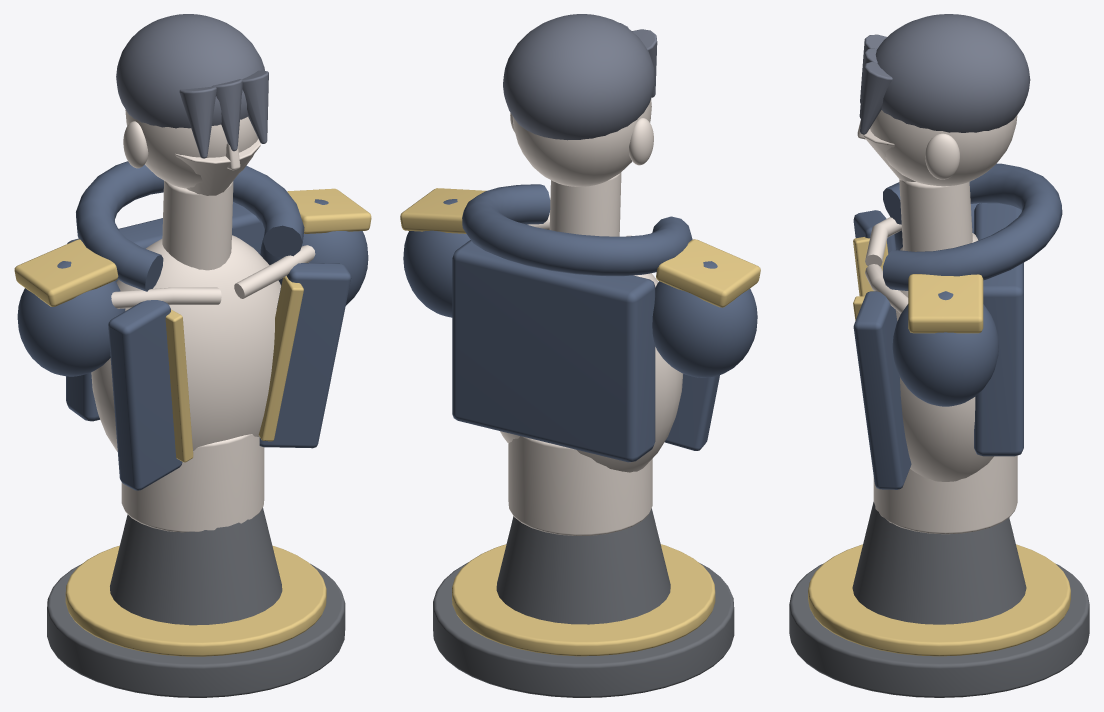
File: stylized_hero_mannequin_bust_v9.glb
The picture shows the model from 3 angles, left to right: view 1: azimuth 30°, elevation 25°; view 2: azimuth 150°, elevation 25°; view 3: azimuth 270°, elevation 25°; orthographic projection.
Visible parts, largest first — view 1: GEO_AnatomicalRibcageTorso, GEO_PedestalColumn, GEO_PedestalBaseDisc, GEO_PedestalGoldRing, GEO_HairCrownMass, GEO_CoatFrontLapel, GEO_OpenHighCollarRim, GEO_AnatomicalWaistTaper, GEO_CoatFrontLapel.001, GEO_DeltoidShoulderCap, GEO_AnatomicalNeck, GEO_ShoulderEpaulettePlate (+13 smaller); view 2: GEO_CoatBackMantle, GEO_HairCrownMass, GEO_PedestalBaseDisc, GEO_PedestalColumn, GEO_PedestalGoldRing, GEO_OpenHighCollarRim, GEO_AnatomicalWaistTaper, GEO_DeltoidShoulderCap, GEO_StylizedCranium, GEO_ShoulderEpaulettePlate, GEO_DeltoidShoulderCap.001, GEO_AnatomicalNeck (+4 smaller); view 3: GEO_PedestalColumn, GEO_HairCrownMass, GEO_PedestalBaseDisc, GEO_PedestalGoldRing, GEO_OpenHighCollarRim, GEO_CoatBackMantle, GEO_AnatomicalWaistTaper, GEO_CoatFrontLapel.001, GEO_DeltoidShoulderCap.001, GEO_AnatomicalRibcageTorso, GEO_StylizedCranium, GEO_AnatomicalNeck (+8 smaller).
Part boxes in pixels (left/top/right/bottom): GEO_AnatomicalRibcageTorso: left=91, top=235, right=280, bottom=451; GEO_PedestalColumn: left=110, top=508, right=282, bottom=625; GEO_PedestalBaseDisc: left=47, top=563, right=345, bottom=697; GEO_PedestalGoldRing: left=65, top=545, right=326, bottom=656; GEO_HairCrownMass: left=116, top=14, right=264, bottom=128; GEO_CoatFrontLapel: left=108, top=300, right=182, bottom=490; GEO_OpenHighCollarRim: left=76, top=161, right=304, bottom=291; GEO_AnatomicalWaistTaper: left=121, top=434, right=264, bottom=532; GEO_CoatFrontLapel.001: left=259, top=263, right=351, bottom=448; GEO_DeltoidShoulderCap: left=17, top=261, right=125, bottom=376; GEO_AnatomicalNeck: left=162, top=181, right=233, bottom=270; GEO_ShoulderEpaulettePlate: left=14, top=239, right=118, bottom=306; GEO_CoatBackMantle: left=452, top=240, right=655, bottom=462; GEO_HairCrownMass: left=503, top=14, right=654, bottom=140; GEO_PedestalBaseDisc: left=433, top=562, right=734, bottom=697; GEO_PedestalColumn: left=496, top=508, right=670, bottom=624; GEO_PedestalGoldRing: left=452, top=544, right=715, bottom=656; GEO_OpenHighCollarRim: left=462, top=184, right=692, bottom=276; GEO_AnatomicalWaistTaper: left=508, top=436, right=652, bottom=535; GEO_DeltoidShoulderCap: left=652, top=261, right=757, bottom=377; GEO_StylizedCranium: left=512, top=99, right=651, bottom=186; GEO_ShoulderEpaulettePlate: left=656, top=239, right=760, bottom=307; GEO_DeltoidShoulderCap.001: left=403, top=199, right=470, bottom=317; GEO_AnatomicalNeck: left=549, top=172, right=621, bottom=236; GEO_PedestalColumn: left=852, top=501, right=1026, bottom=624; GEO_HairCrownMass: left=875, top=14, right=1030, bottom=132; GEO_PedestalBaseDisc: left=789, top=564, right=1089, bottom=697; GEO_PedestalGoldRing: left=808, top=544, right=1070, bottom=656; GEO_OpenHighCollarRim: left=883, top=163, right=1062, bottom=290; GEO_CoatBackMantle: left=974, top=203, right=1023, bottom=456; GEO_AnatomicalWaistTaper: left=873, top=455, right=1017, bottom=534; GEO_CoatFrontLapel.001: left=853, top=291, right=911, bottom=489; GEO_DeltoidShoulderCap.001: left=892, top=291, right=998, bottom=406; GEO_AnatomicalRibcageTorso: left=895, top=233, right=993, bottom=481; GEO_StylizedCranium: left=870, top=110, right=1017, bottom=186; GEO_AnatomicalNeck: left=899, top=179, right=972, bottom=251.
Bounding box in the file's own units: 0.626 × 1.08 × 0.48.
